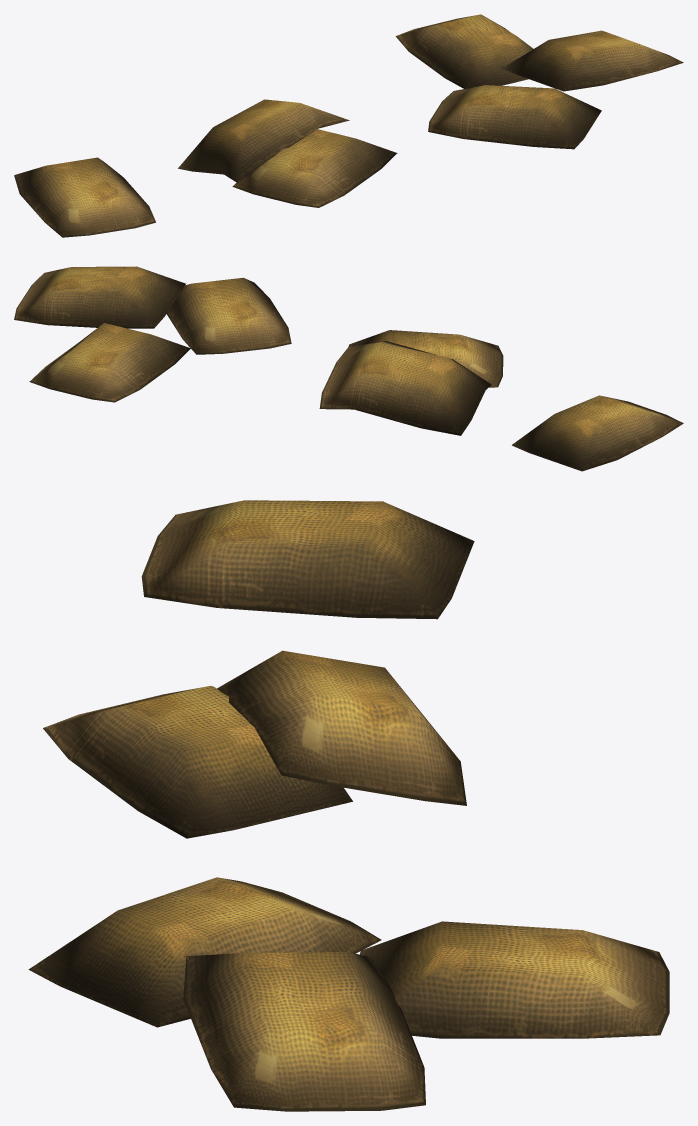
Rendered from grainsacs01.obj.
3 renders of one model, top to bottom at view 1: azimuth 30°, elevation 25°; view 2: azimuth 150°, elevation 25°; view 3: azimuth 270°, elevation 25°, orthographic. The views are drawn at different scales.
Parts seen in each view (by area): view 1: grainsacs01; view 2: grainsacs01; view 3: grainsacs01.
Part boxes in pixels (x1,y1,x2,y2): grainsacs01: [14, 14, 683, 237]; grainsacs01: [14, 266, 683, 471]; grainsacs01: [28, 500, 669, 1111].
Size of the model in its own units: 6.53 by 0.5453 by 2.9.
Materials: 1 (1 with a texture image).
